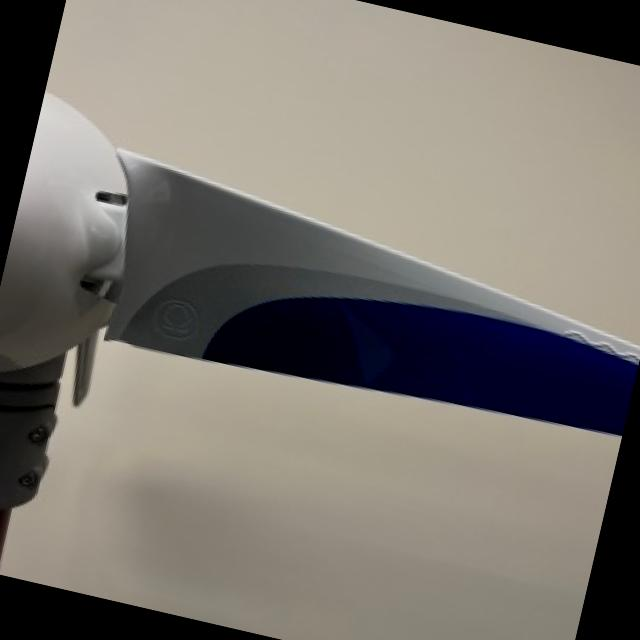healthy: (0, 93, 640, 566)
